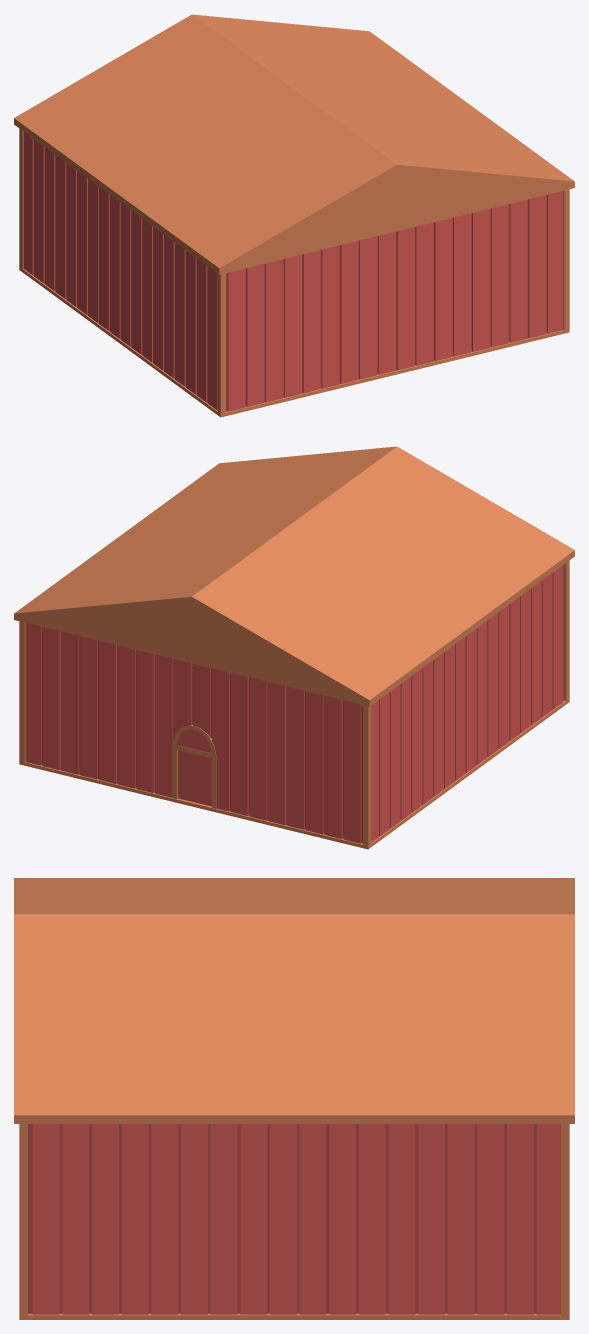
The model's file is Barn.fbx.
The picture shows the model from 3 angles, top to bottom: view 1: azimuth 30°, elevation 25°; view 2: azimuth 150°, elevation 25°; view 3: azimuth 270°, elevation 25°; orthographic projection. The views are drawn at different scales.
Parts seen in each view (by area): view 1: building_004, building_004.002, building_004.001; view 2: building_004, building_004.002, building_004.001; view 3: building_004, building_004.001.
Boxes of the visible parts, x1=… form: building_004: x1=14, y1=14, x2=574, y2=417; building_004.002: x1=227, y1=191, x2=563, y2=411; building_004.001: x1=23, y1=132, x2=217, y2=410; building_004: x1=14, y1=446, x2=574, y2=849; building_004.002: x1=25, y1=623, x2=361, y2=843; building_004.001: x1=371, y1=565, x2=563, y2=842; building_004: x1=14, y1=878, x2=574, y2=1319; building_004.001: x1=32, y1=1124, x2=560, y2=1314.
Size of the model in its own units: 5800 by 3298 by 5800.
